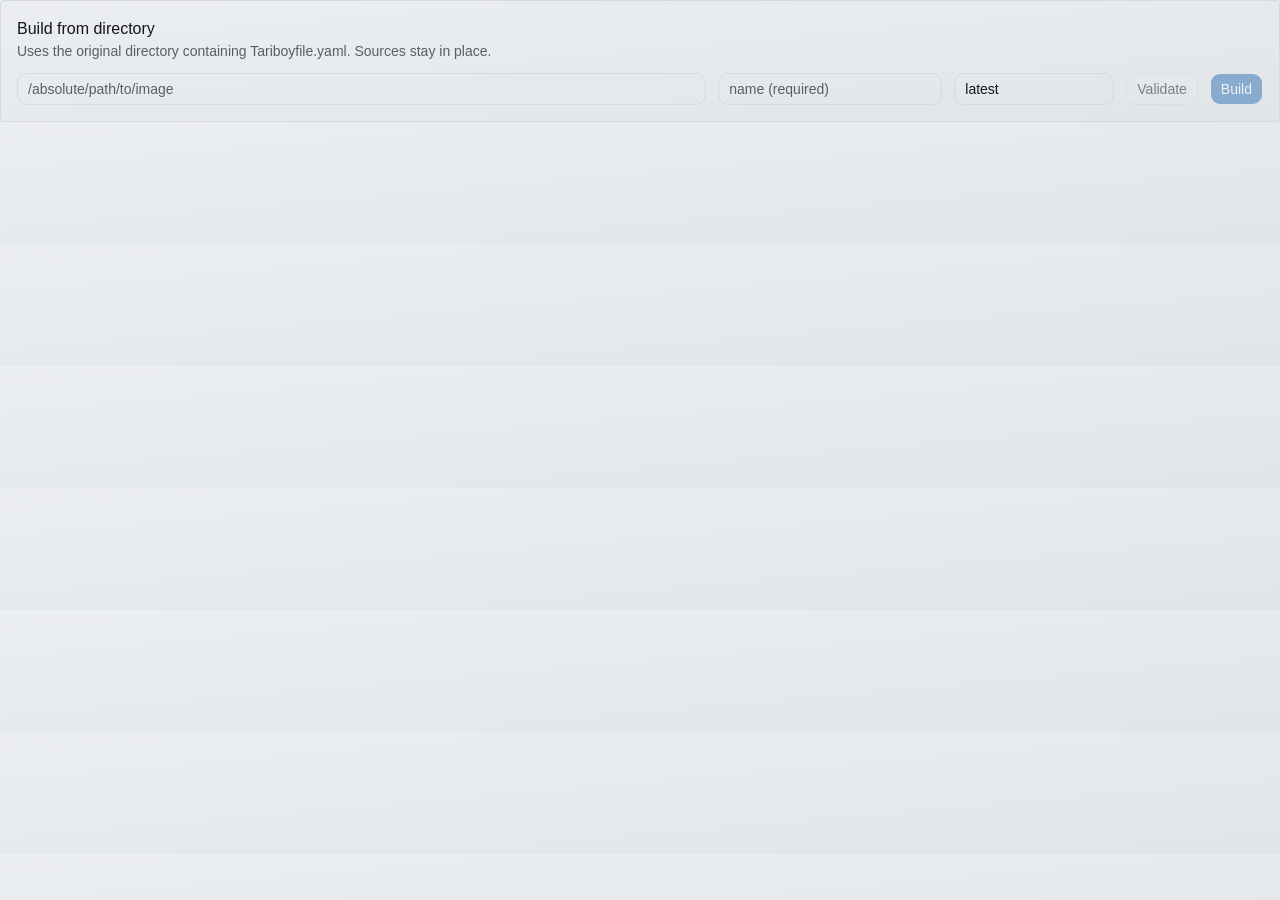
Test: shows the exact resolved template and warnings before build
The width and height of the screenshot is (1280, 900).
In the field named "Image source directory": coordinates (362, 89) top-left (17, 73), bottom-right (706, 105), type "/srv/images/reviewer"
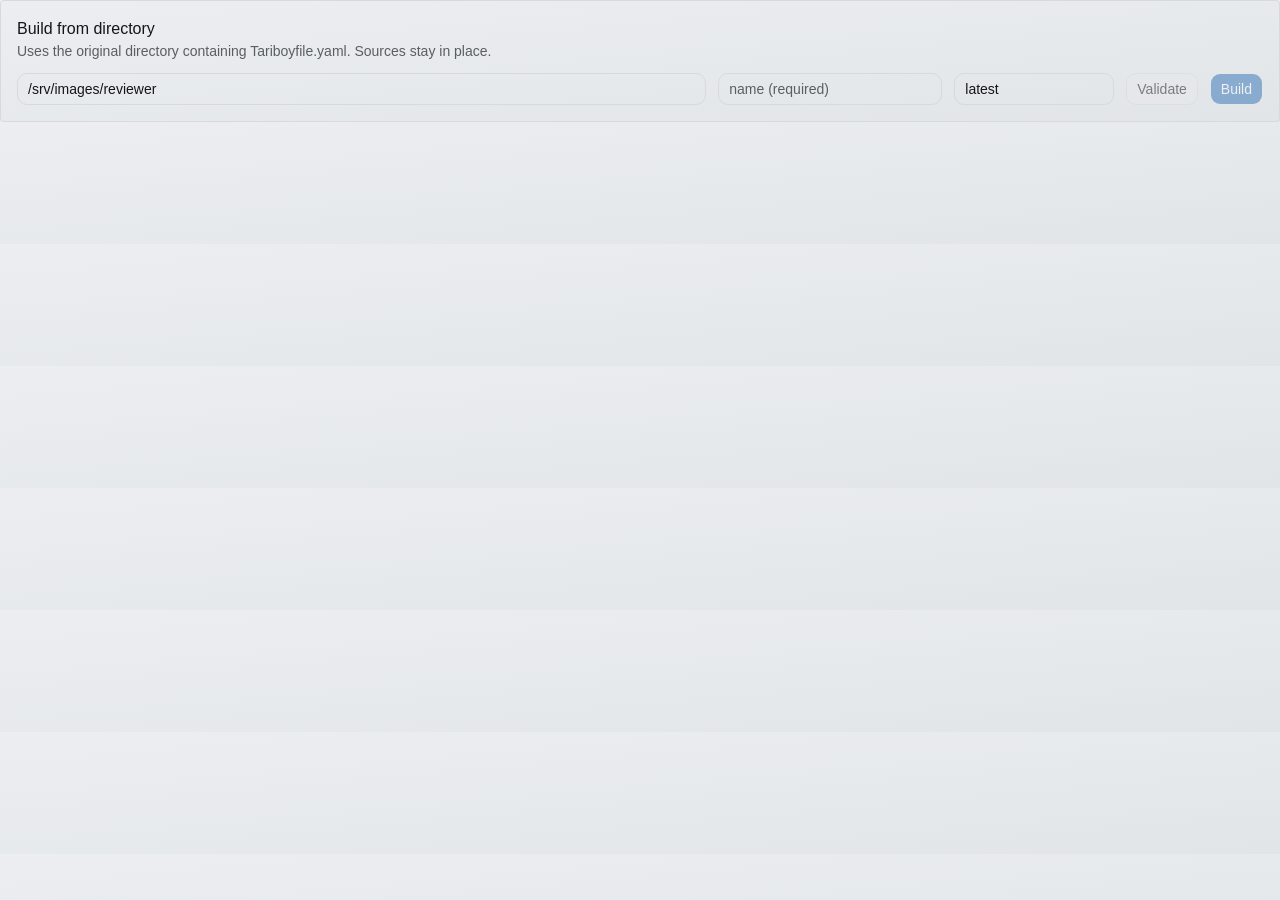
In the field named "Image name": coordinates (830, 89) top-left (718, 73), bottom-right (942, 105), type "reviewer"
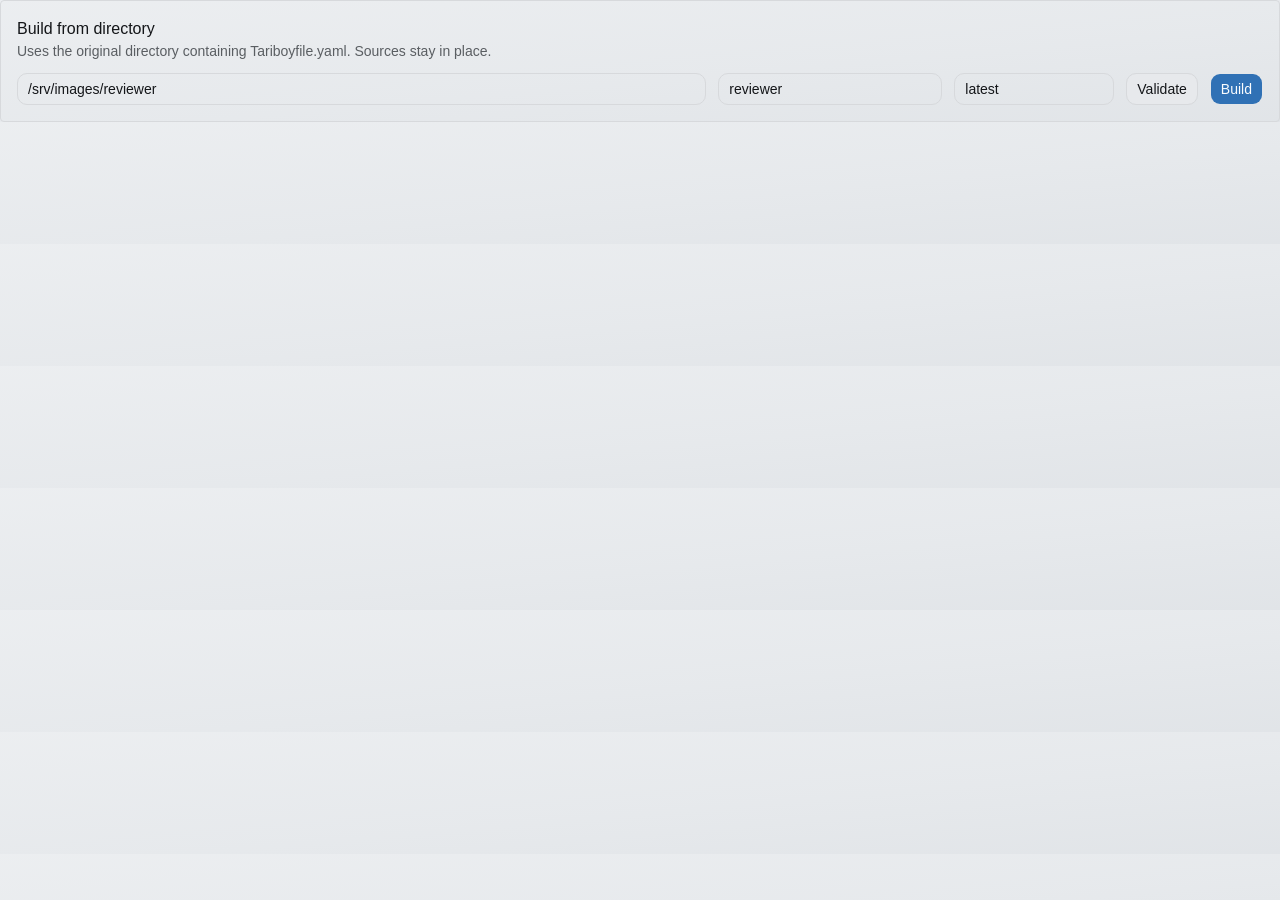
In the field named "Image tag": coordinates (1034, 89) top-left (954, 73), bottom-right (1114, 105), type "v3"
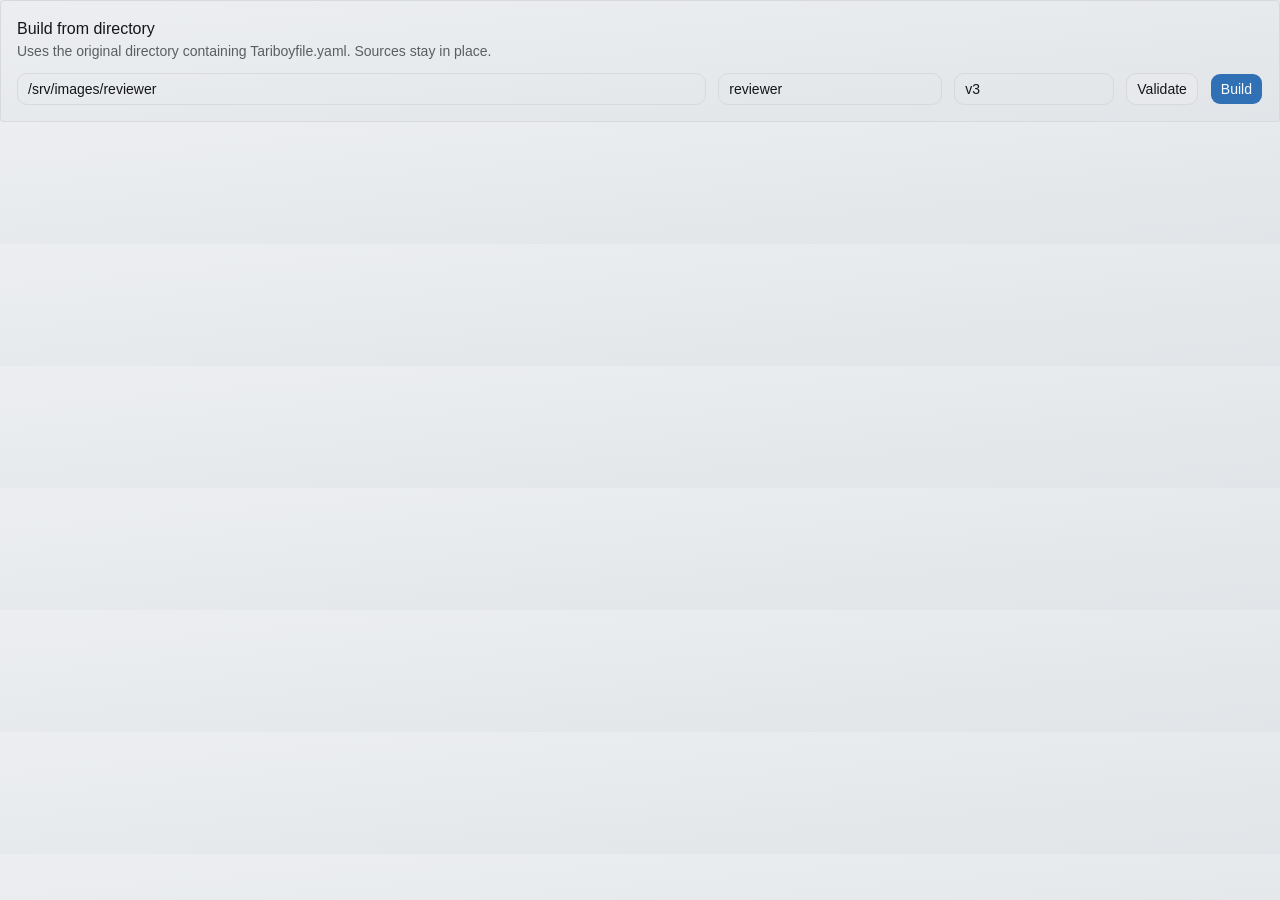
Click the button "Validate": coordinates (1162, 89) top-left (1126, 73), bottom-right (1198, 105)
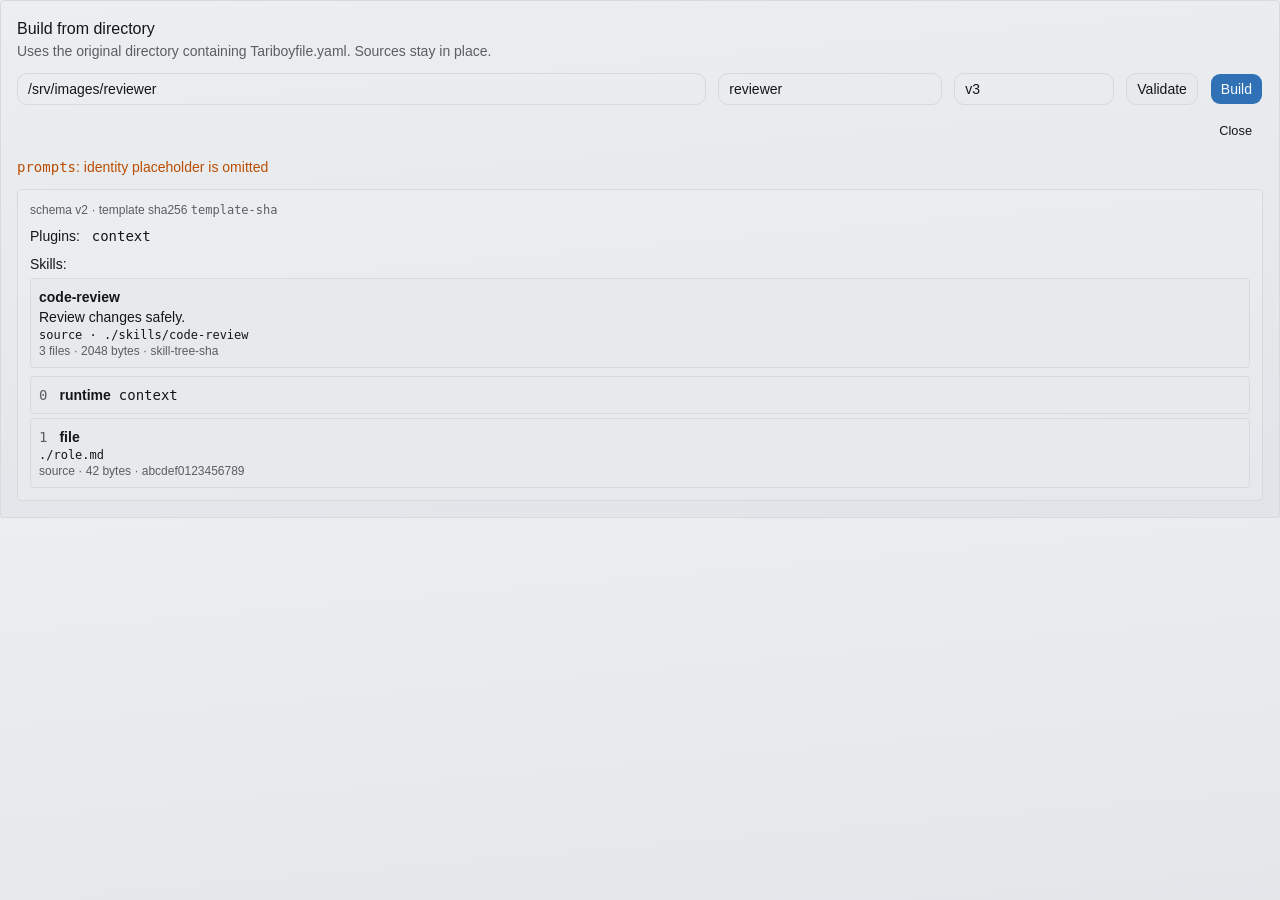
Now the text "context" next to "runtime" is shown, box top-left (119, 387), bottom-right (178, 403)
Now the text "./role.md" is shown, box top-left (39, 448), bottom-right (104, 462)
Now the text "source · 42 bytes · abcdef0123456789" is shown, box top-left (39, 464), bottom-right (244, 478)
